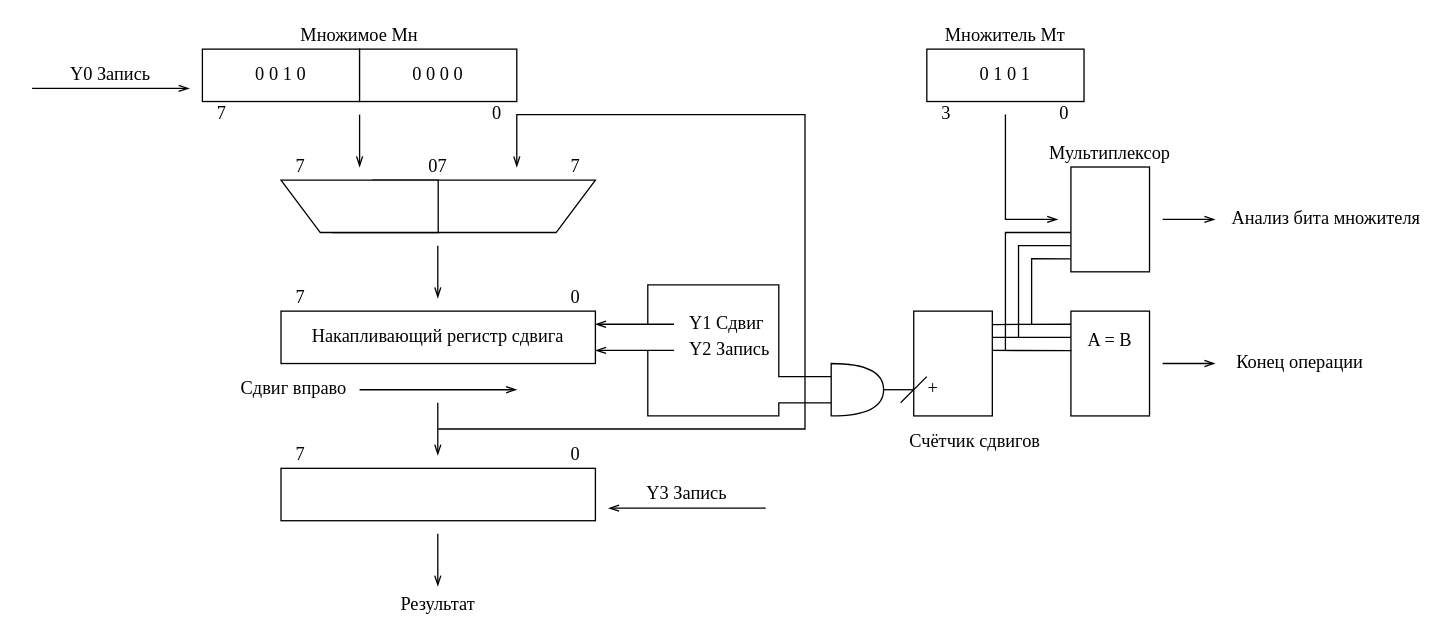
Some shapes in this 1448 by 641 pixel diagram are drawn without their labels. Each missing label, with the box of its shape:
MUX: (1070, 166, 1150, 272)
ST: (912, 310, 992, 416)
Регистр результата: (280, 467, 595, 521)
